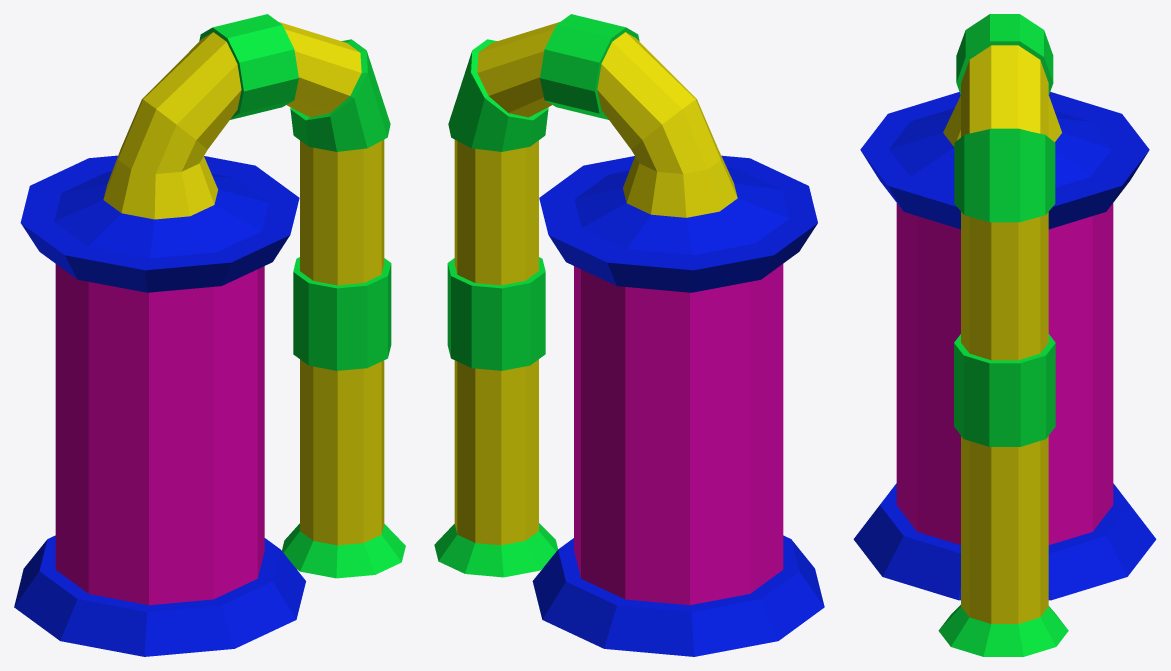
Rendered from capsule with pipe.fbx.
3 renders of one model, left to right at view 1: azimuth 30°, elevation 25°; view 2: azimuth 150°, elevation 25°; view 3: azimuth 270°, elevation 25°, orthographic.
Visible parts, largest first — view 1: Capsule; view 2: Capsule; view 3: Capsule.
Part boxes in pixels (x1,y1,x2,y2): Capsule: (14,14,405,656); Capsule: (434,14,824,656); Capsule: (853,14,1156,656).
Bounding box in the file's own units: 399 × 583 × 288.
